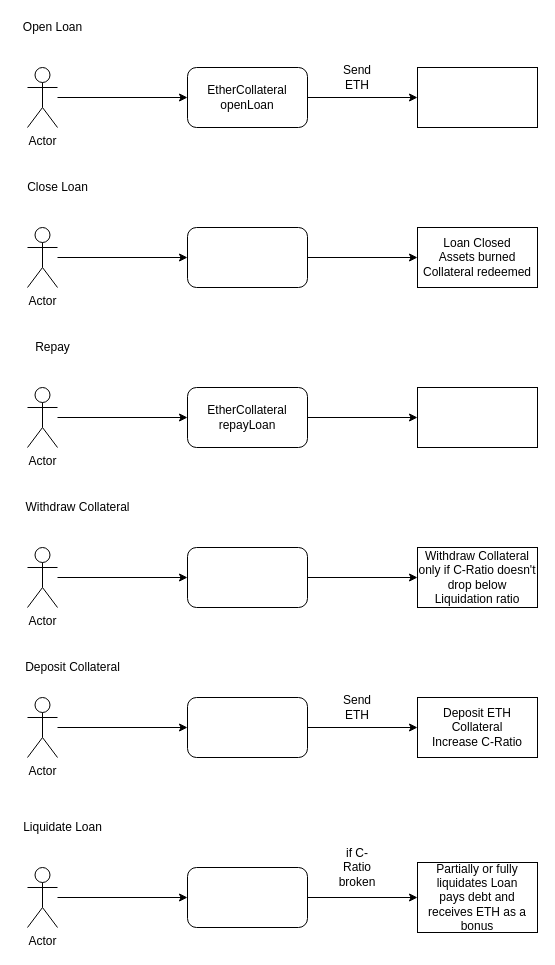
This 555x965 diagram has some shape labels left out. The box of each missing label's shape, as (x1, y1, x2, y2) in pixels:
Burn Synth amount Fix C-Ratio: (416, 386, 538, 448)
EtherCollateral closeLoan: (186, 226, 308, 288)
EtherCollateral depositCollateral: (186, 696, 308, 758)
EtherCollateral liquidateLoan: (186, 866, 308, 928)
EtherCollateral withdrawCollateral: (186, 546, 308, 608)
Loan Taken Assets received Collateral locked: (416, 66, 538, 128)
